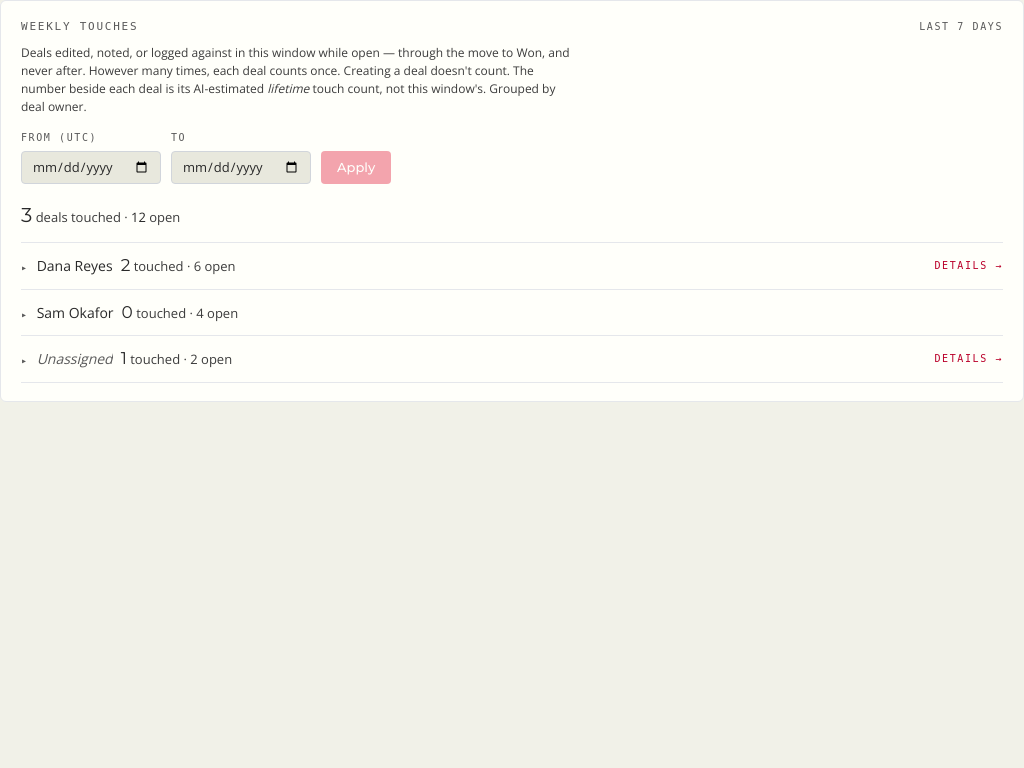
Test case: WeeklyTouchesCard per-rep grouping (issue #146) › collapses each rep until its header is clicked
What coordinates should you click on to do the following:
click the button "▸ Dana Reyes 2 touched · 6 open"
I would click on:
 (75, 266)
Its box is [21,253,922,278].
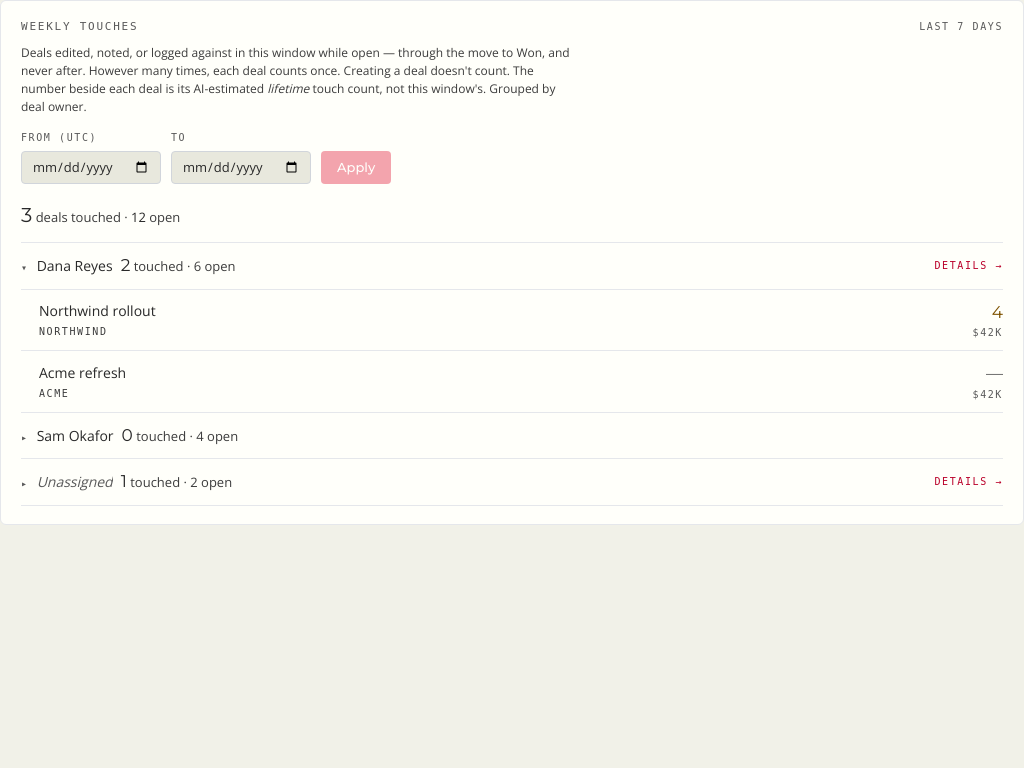
Check: the button "▾ Dana Reyes 2 touched · 6 open" is expanded, box [21,253,922,278]
